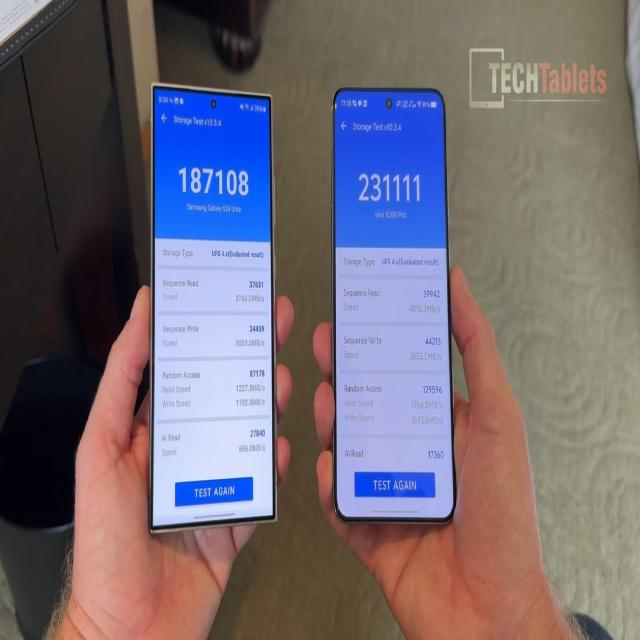mobile_phone: (133, 64, 280, 542), (322, 76, 455, 552)
